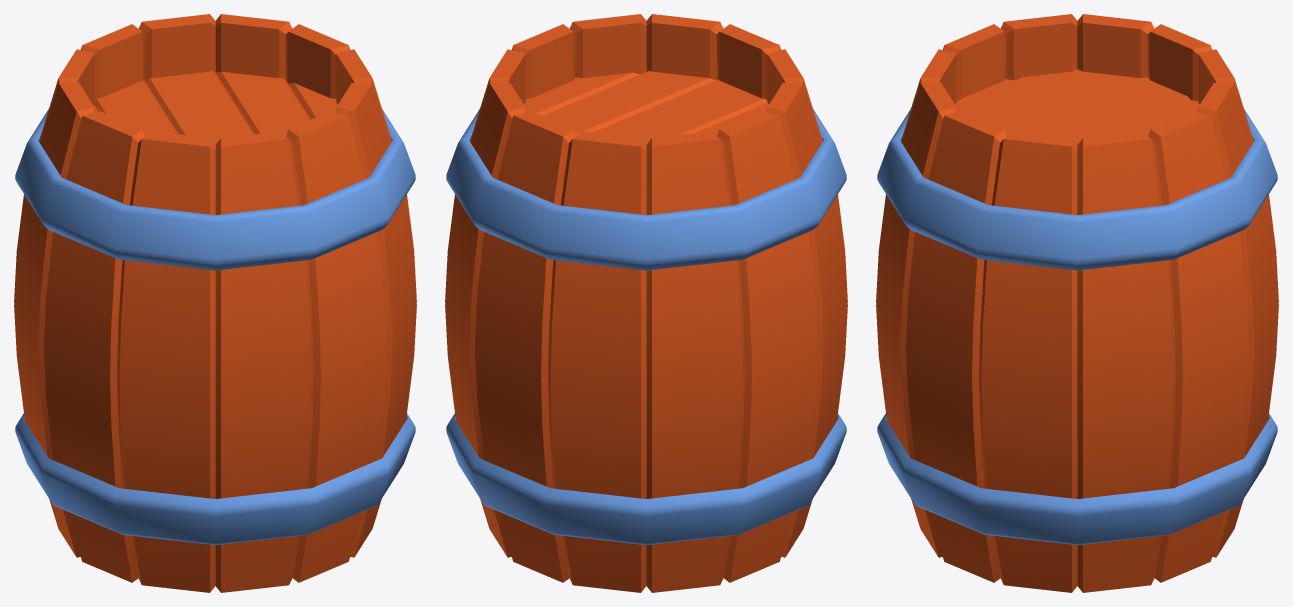
Rendered from barrel.fbx.
3 views of the same model, side by side, from view 1: azimuth 30°, elevation 25°; view 2: azimuth 150°, elevation 25°; view 3: azimuth 270°, elevation 25° (orthographic).
Visible parts, largest first — view 1: barrel; view 2: barrel; view 3: barrel.
Part boxes in pixels (x1,y1,x2,y2): barrel: (14, 14, 416, 592); barrel: (445, 14, 847, 592); barrel: (876, 14, 1278, 592).
Size of the model in its own units: 2.54 by 3.11 by 2.54.
